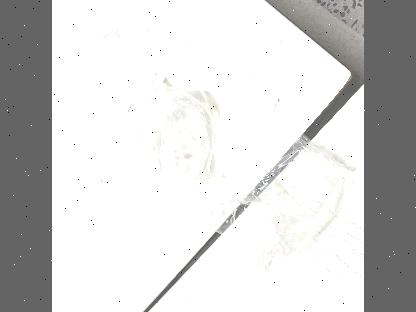Others: (202, 126, 356, 284), (132, 76, 224, 198), (76, 18, 168, 80)
